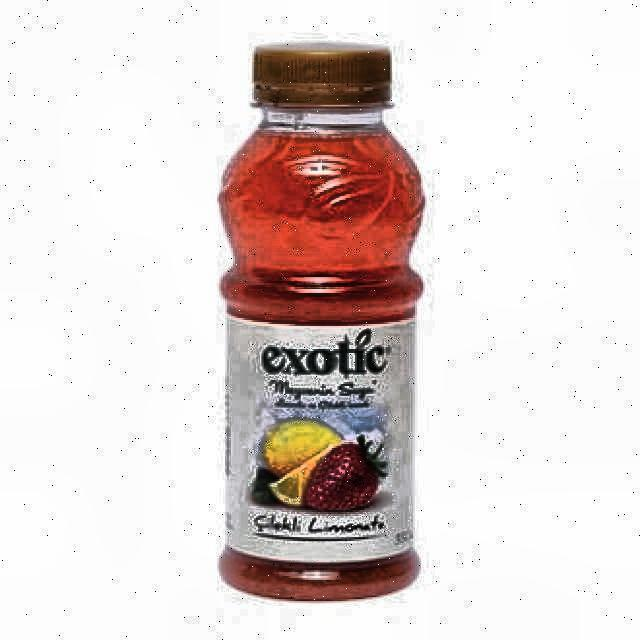plastic: (216, 42, 427, 605)
